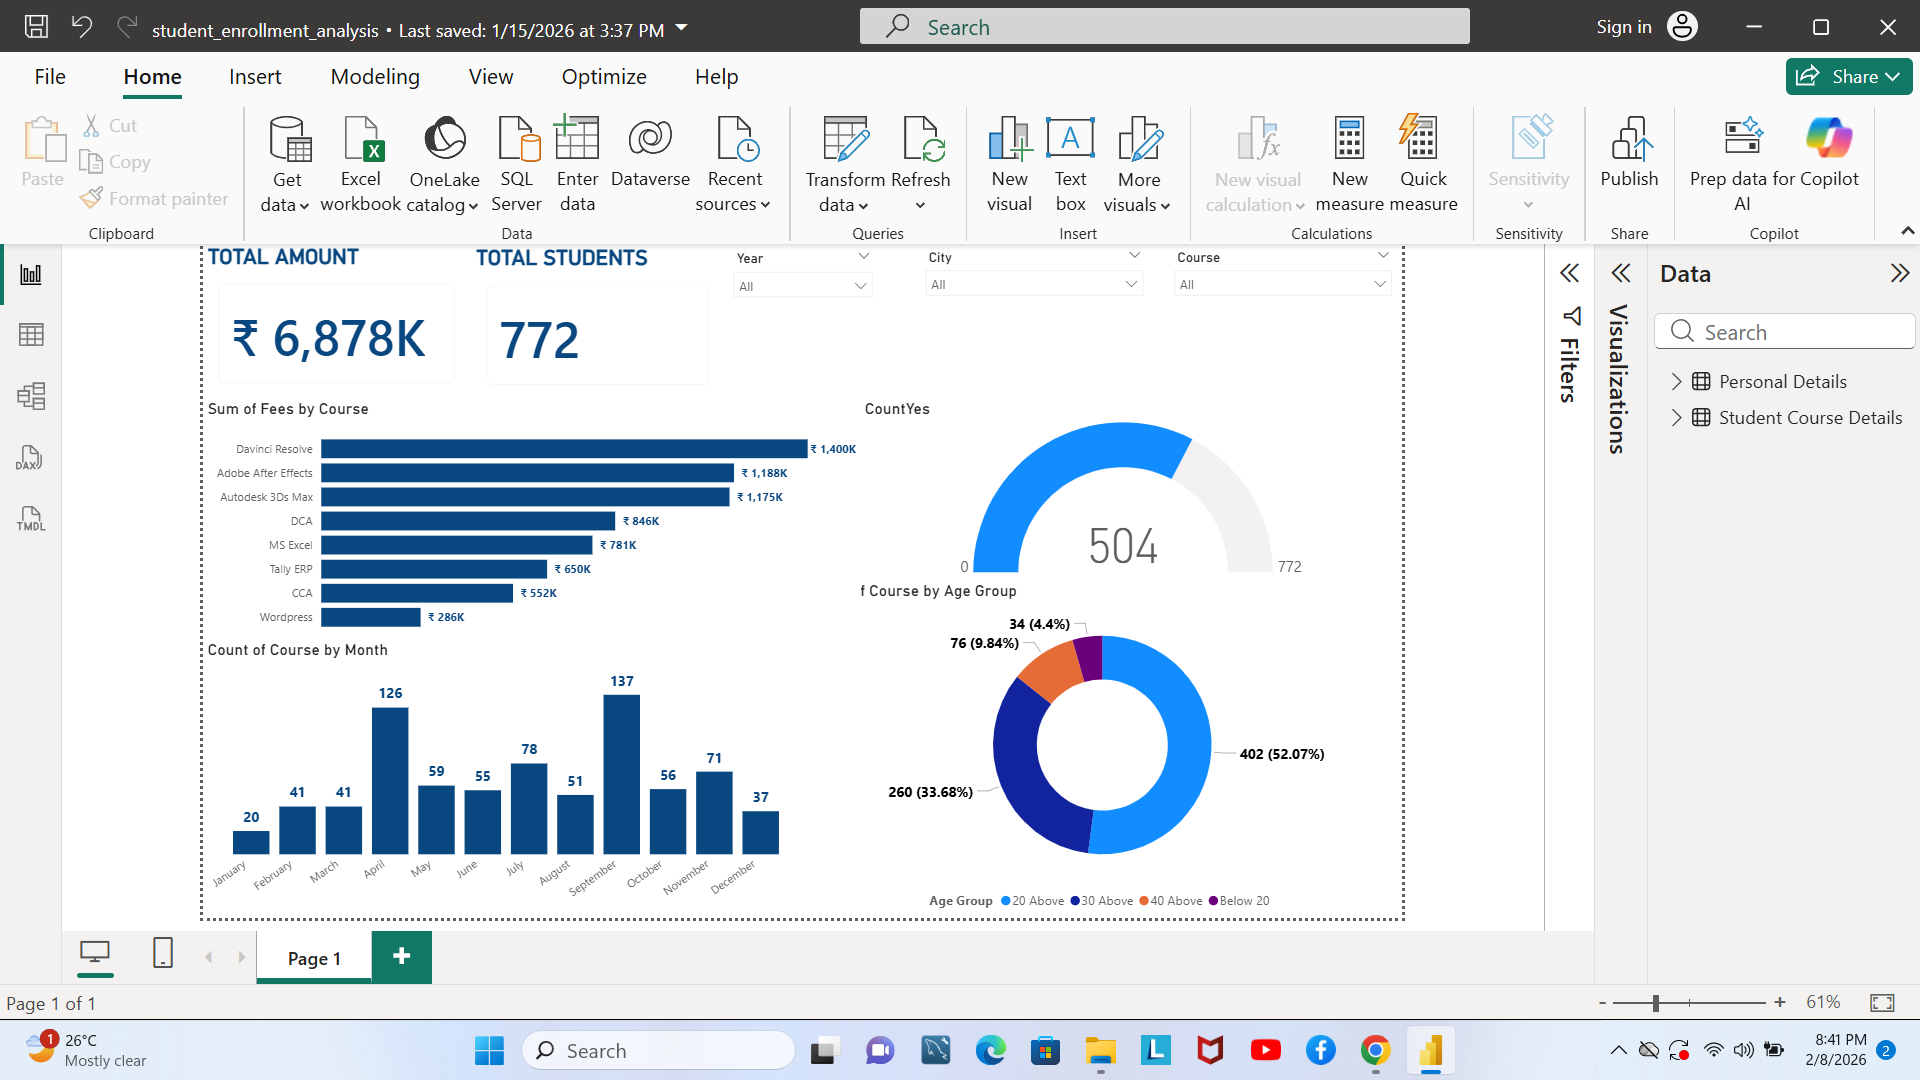

What the dashboard file says about the page in this screenshot:
{"tool":"powerbi","page":{"name":"Page 1","canvas":[1280,720],"ordinal":0},"visuals":[{"type":"clusteredColumnChart","title":"Course by Month","fields":{"Category":["Student Course Details.Date of Join.Variation.Date Hierarchy.Year","Student Course Details.Date of Join.Variation.Date Hierarchy.Quarter","Student Course Details.Date of Join.Variation.Date Hierarchy.Month","Student Course Details.Date of Join.Variation.Date Hierarchy.Day"],"Y":["Student Course Details.Course"]},"box":[0,424,640,296],"z":0},{"type":"donutChart","title":"Age Group","fields":{"Y":["Student Course Details.Course"],"Category":["Student Course Details.Age Group"]},"box":[701.7,385.8,578,333.7],"z":1000},{"type":"clusteredBarChart","title":"Fees by Course","fields":{"Category":["Student Course Details.Course"],"Y":["Student Course Details.Fees"]},"box":[0,166,702,258],"z":2000},{"type":"cardVisual","title":"TOTAL AMOUNT","fields":{"Data":["Student Course Details.Fees"]},"box":[0,0,286,166],"z":3000},{"type":"cardVisual","title":"TOTAL STUDENTS","fields":{"Data":["Personal Details.Student Name"]},"box":[286,2,270,166],"z":4000},{"type":"gauge","title":"Certificate Issued","fields":{"Y":["Personal Details.CountYes"]},"box":[702,166,578,194],"z":5000},{"type":"slicer","fields":{"Values":["Student Course Details.Date of Join.Variation.Date Hierarchy.Year"]},"box":[556,2,168,166],"z":6000},{"type":"slicer","fields":{"Values":["Personal Details.City"]},"box":[762,0,252,166],"z":7000},{"type":"slicer","fields":{"Values":["Student Course Details.Course"]},"box":[1028,0,252,166],"z":8000}]}

Visuals, with their boxes on the page's 1280x720 design canvas (x1, y1, x2, y2). These are canvas units, not pixel positions in the 1920x1080 screenshot, which may show the page scaled, cropped or inside an application window:
"Course by Month" clusteredColumnChart: region(0, 424, 640, 720)
"Age Group" donutChart: region(702, 386, 1280, 720)
"Fees by Course" clusteredBarChart: region(0, 166, 702, 424)
"TOTAL AMOUNT" cardVisual: region(0, 0, 286, 166)
"TOTAL STUDENTS" cardVisual: region(286, 2, 556, 168)
"Certificate Issued" gauge: region(702, 166, 1280, 360)
slicer - Student Course Details.Date of Join.Variation.Date Hierarchy.Year: region(556, 2, 724, 168)
slicer - Personal Details.City: region(762, 0, 1014, 166)
slicer - Student Course Details.Course: region(1028, 0, 1280, 166)
